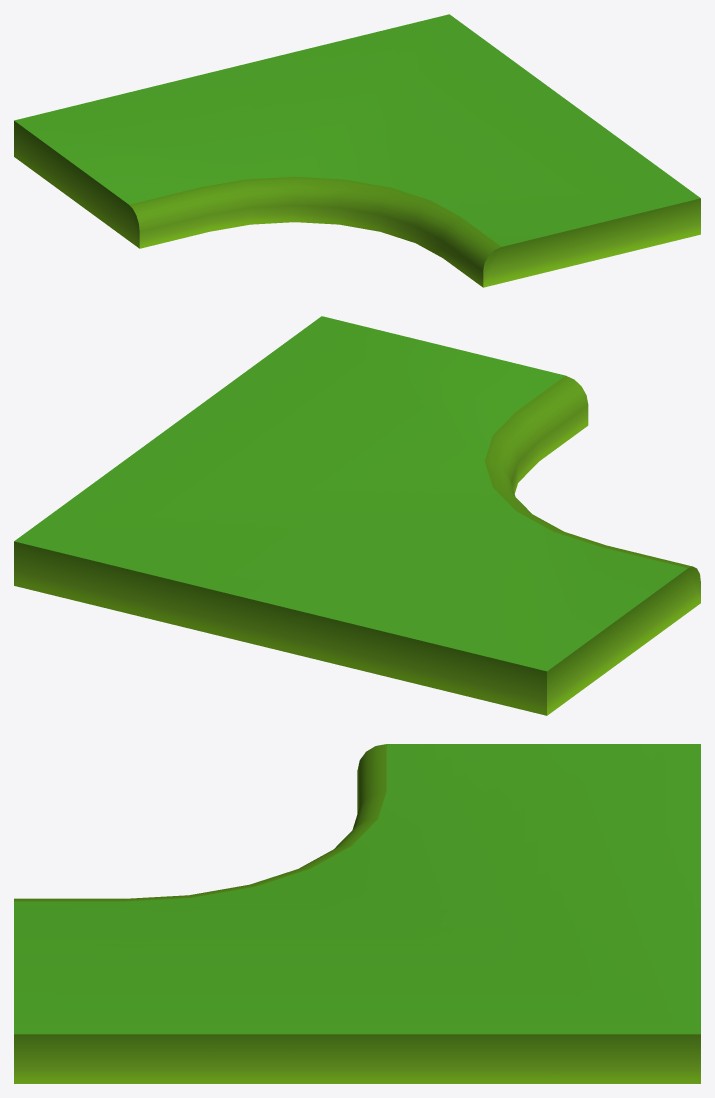
Rendered from GF_ICorner_1_2.obj.
The picture shows the model from 3 angles, top to bottom: view 1: azimuth 30°, elevation 25°; view 2: azimuth 150°, elevation 25°; view 3: azimuth 270°, elevation 25°; orthographic projection. The views are drawn at different scales.
Visible parts, largest first — view 1: GF_ICorner_1_2; view 2: GF_ICorner_1_2; view 3: GF_ICorner_1_2.
Part boxes in pixels (box(x1,y1,x2,y2)): GF_ICorner_1_2: box(14, 14, 700, 287); GF_ICorner_1_2: box(14, 316, 700, 715); GF_ICorner_1_2: box(14, 744, 700, 1083).
Size of the model in its own units: 4 by 0.3187 by 4.
